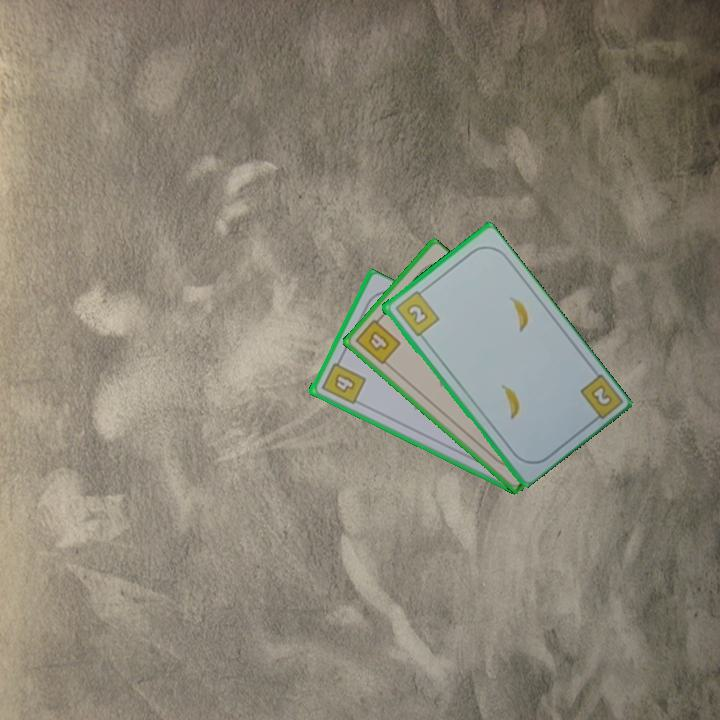2b: (391, 285, 442, 339), (587, 381, 615, 409)
4b: (352, 312, 404, 367), (317, 354, 368, 407)
